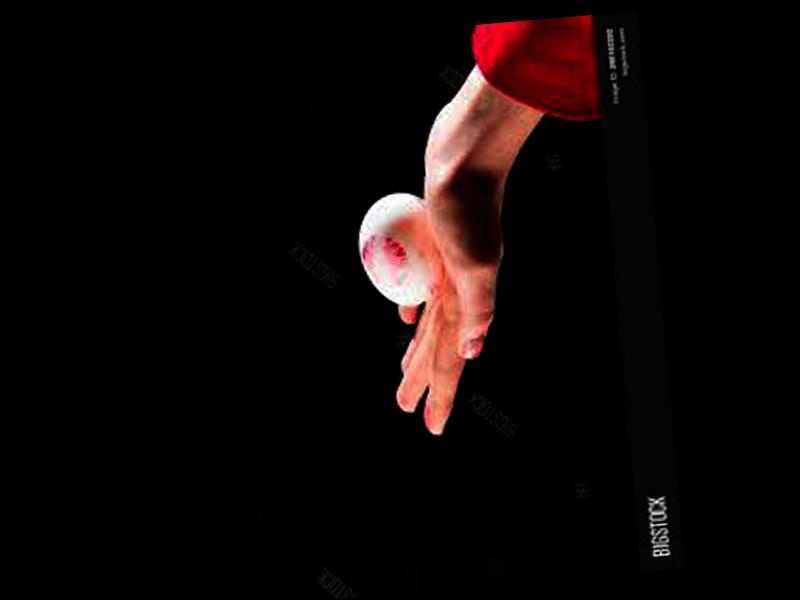Eggs: (353, 188, 438, 306)
